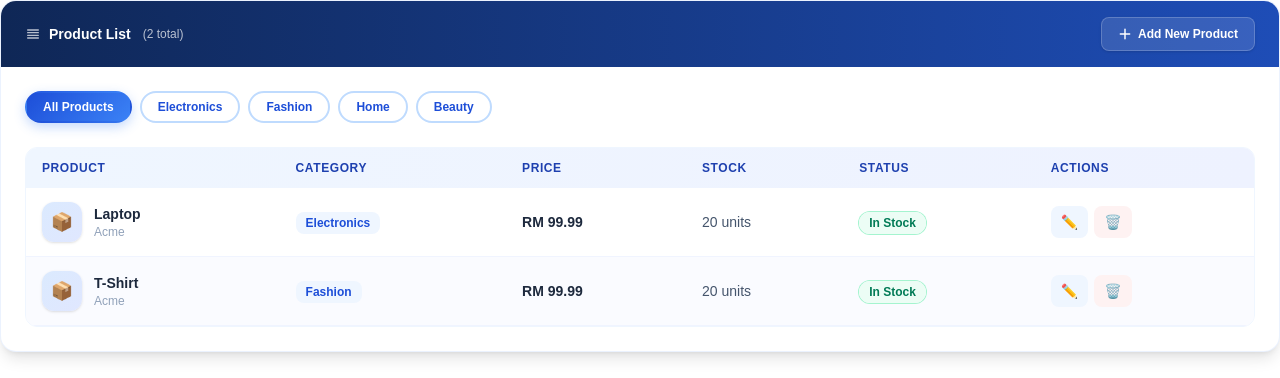
Test: ProductsTable — category filter › filters to show only the selected category
Click the button "Fashion" at [289, 107], box [248,91,330,123]
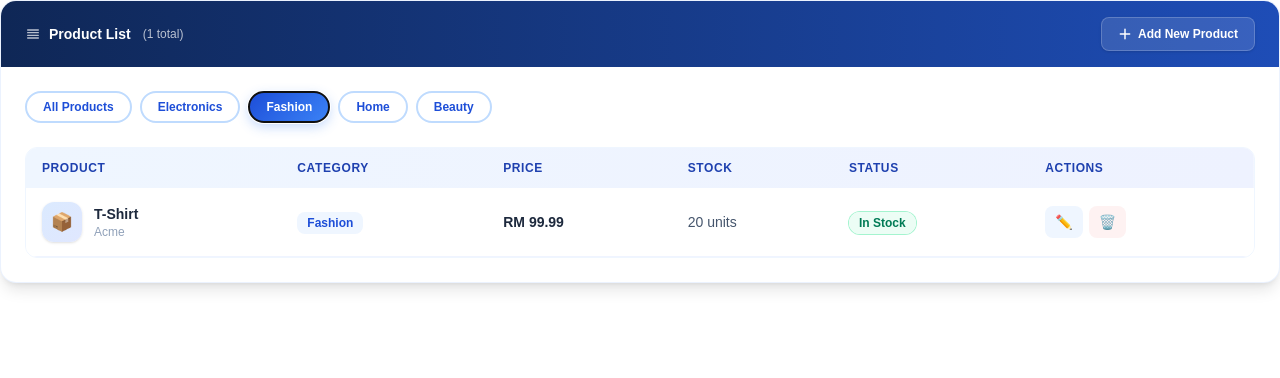
Expected: the text "T-Shirt" is shown, [94,204,138,224]
Now the text "Laptop" is gone
